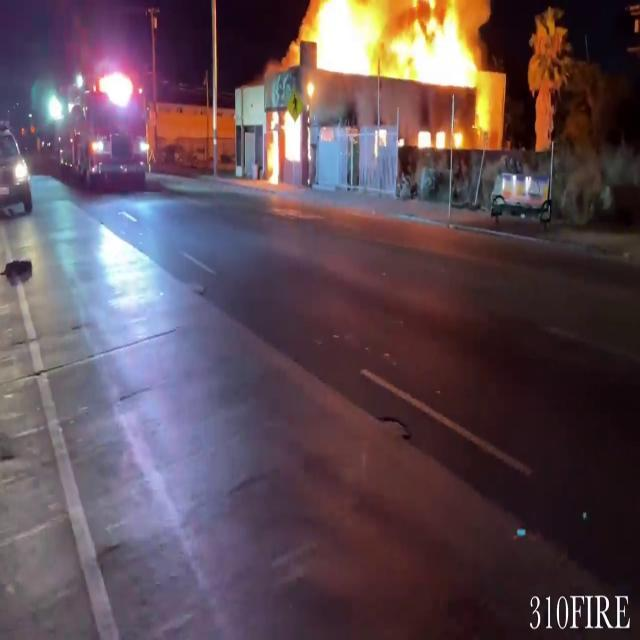Fire: (297, 0, 491, 88), (262, 100, 306, 184)
